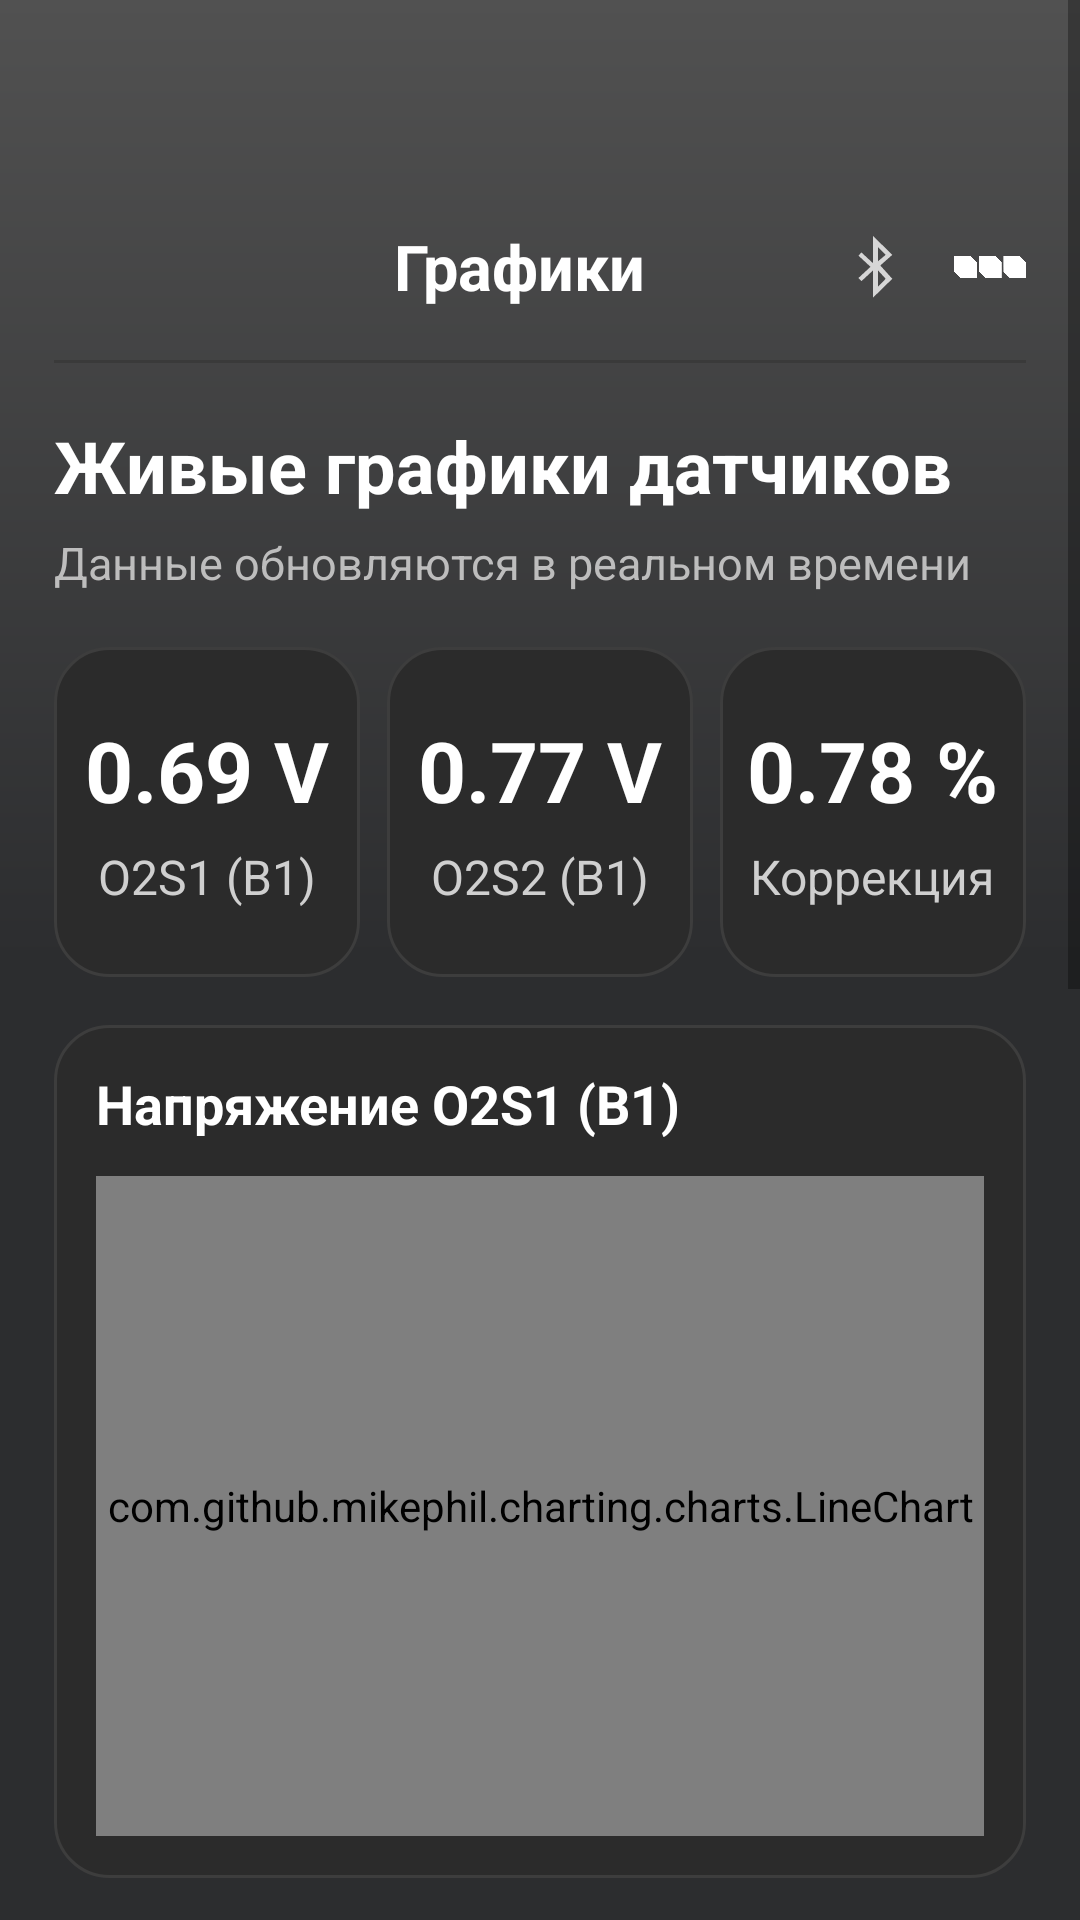

Icons on this 1080 × 1920 Android screen, each with the point to tap as point (x, y):
Ещё: point (990, 267)
